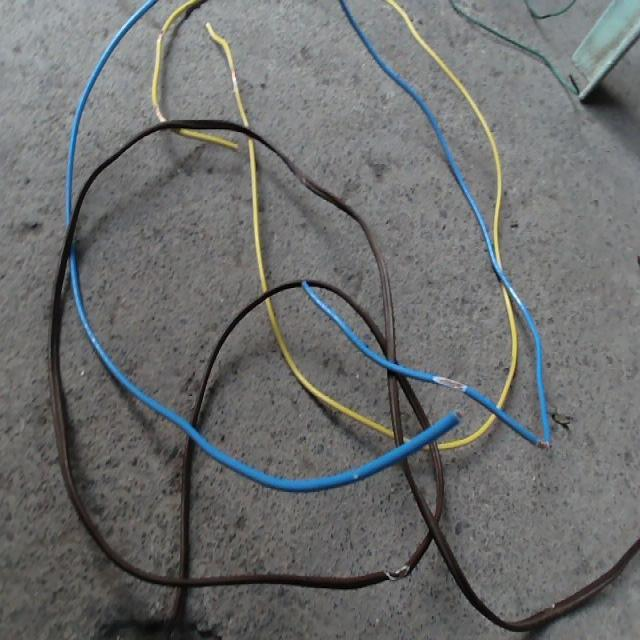-: (431, 374, 467, 390), (383, 564, 409, 579), (153, 103, 166, 120), (535, 438, 549, 450), (230, 70, 236, 82)
